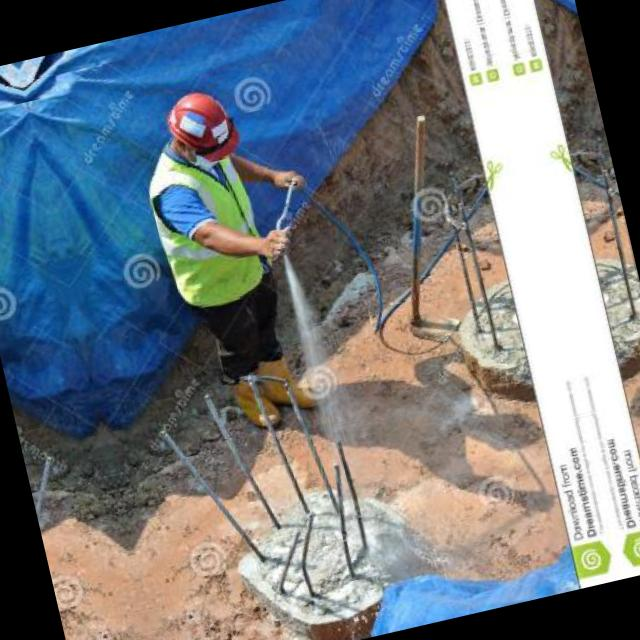helmet: (156, 82, 238, 166)
